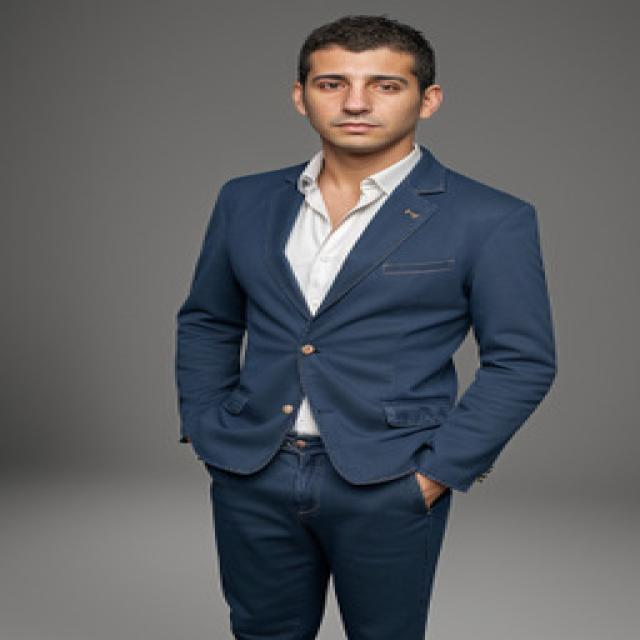Ai human 2: (152, 1, 572, 640)
